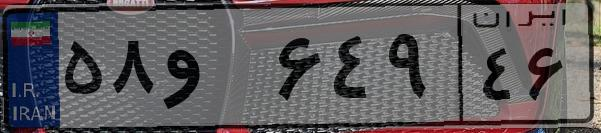4: (330, 28, 385, 110), (475, 38, 525, 113)
5: (57, 26, 110, 100)
6: (270, 28, 330, 110), (525, 38, 570, 115)
8: (110, 28, 158, 98)
9: (385, 28, 445, 110)
و: (158, 20, 270, 120)
